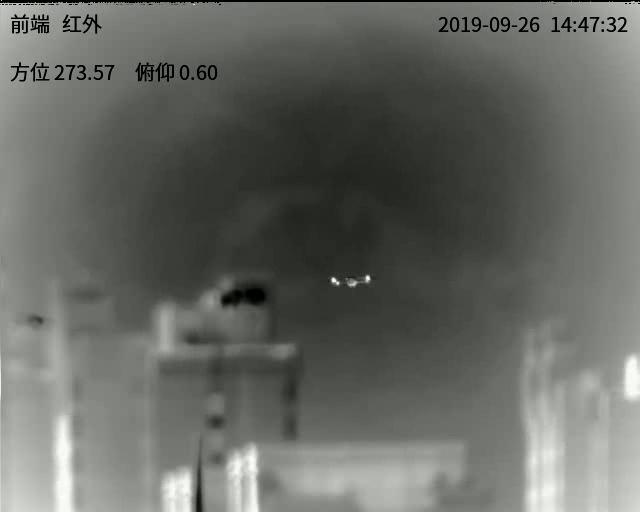DRONE: (328, 273, 372, 288)
